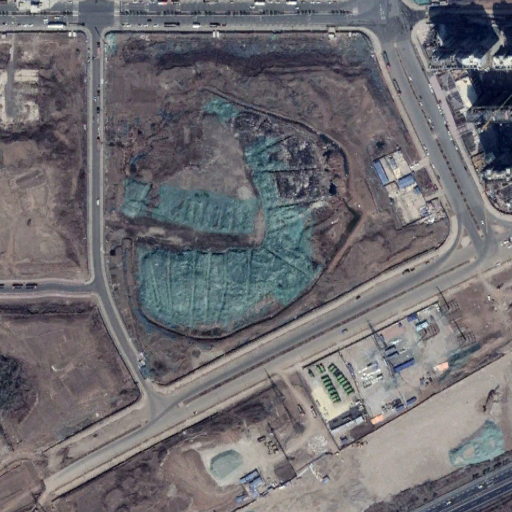cw: (125, 91, 355, 341)
